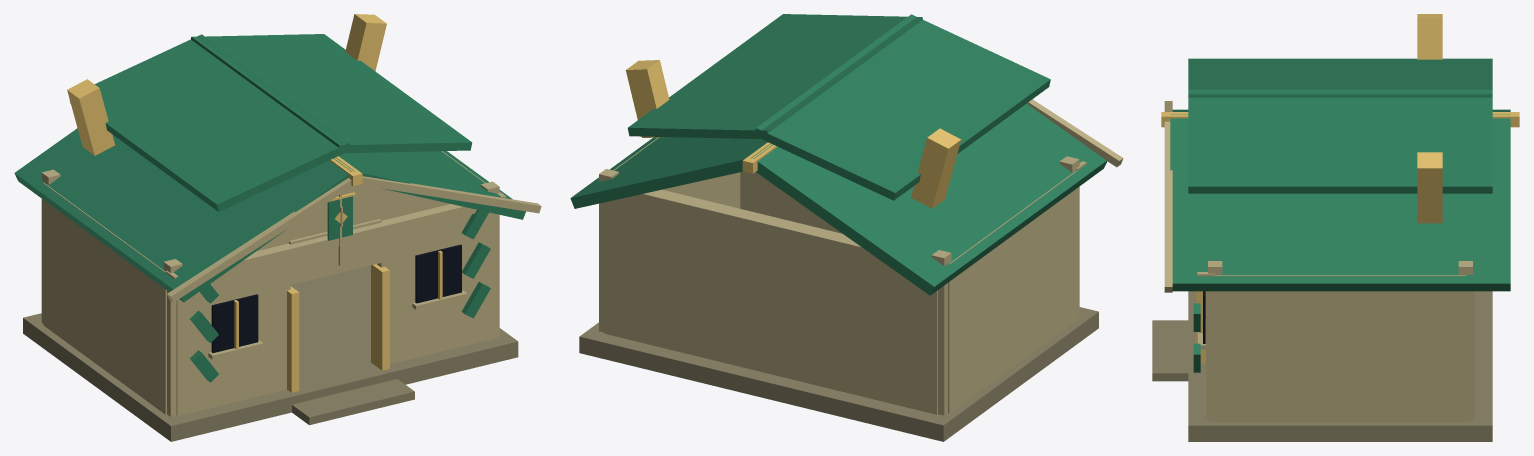
Rendered from hall_elf_lv1.glb.
3 views of the same model, side by side, from view 1: azimuth 30°, elevation 25°; view 2: azimuth 150°, elevation 25°; view 3: azimuth 270°, elevation 25° (orthographic). The views are drawn at different scales.
Parts seen in each view (by area): view 1: hall_elf_lv1; view 2: hall_elf_lv1; view 3: hall_elf_lv1.
Boxes of the visible parts, bbox=[...] form: hall_elf_lv1: bbox=[14, 14, 541, 441]; hall_elf_lv1: bbox=[570, 14, 1123, 441]; hall_elf_lv1: bbox=[1152, 14, 1519, 441].
Size of the model in its own units: 24.56 by 16.61 by 20.5.
